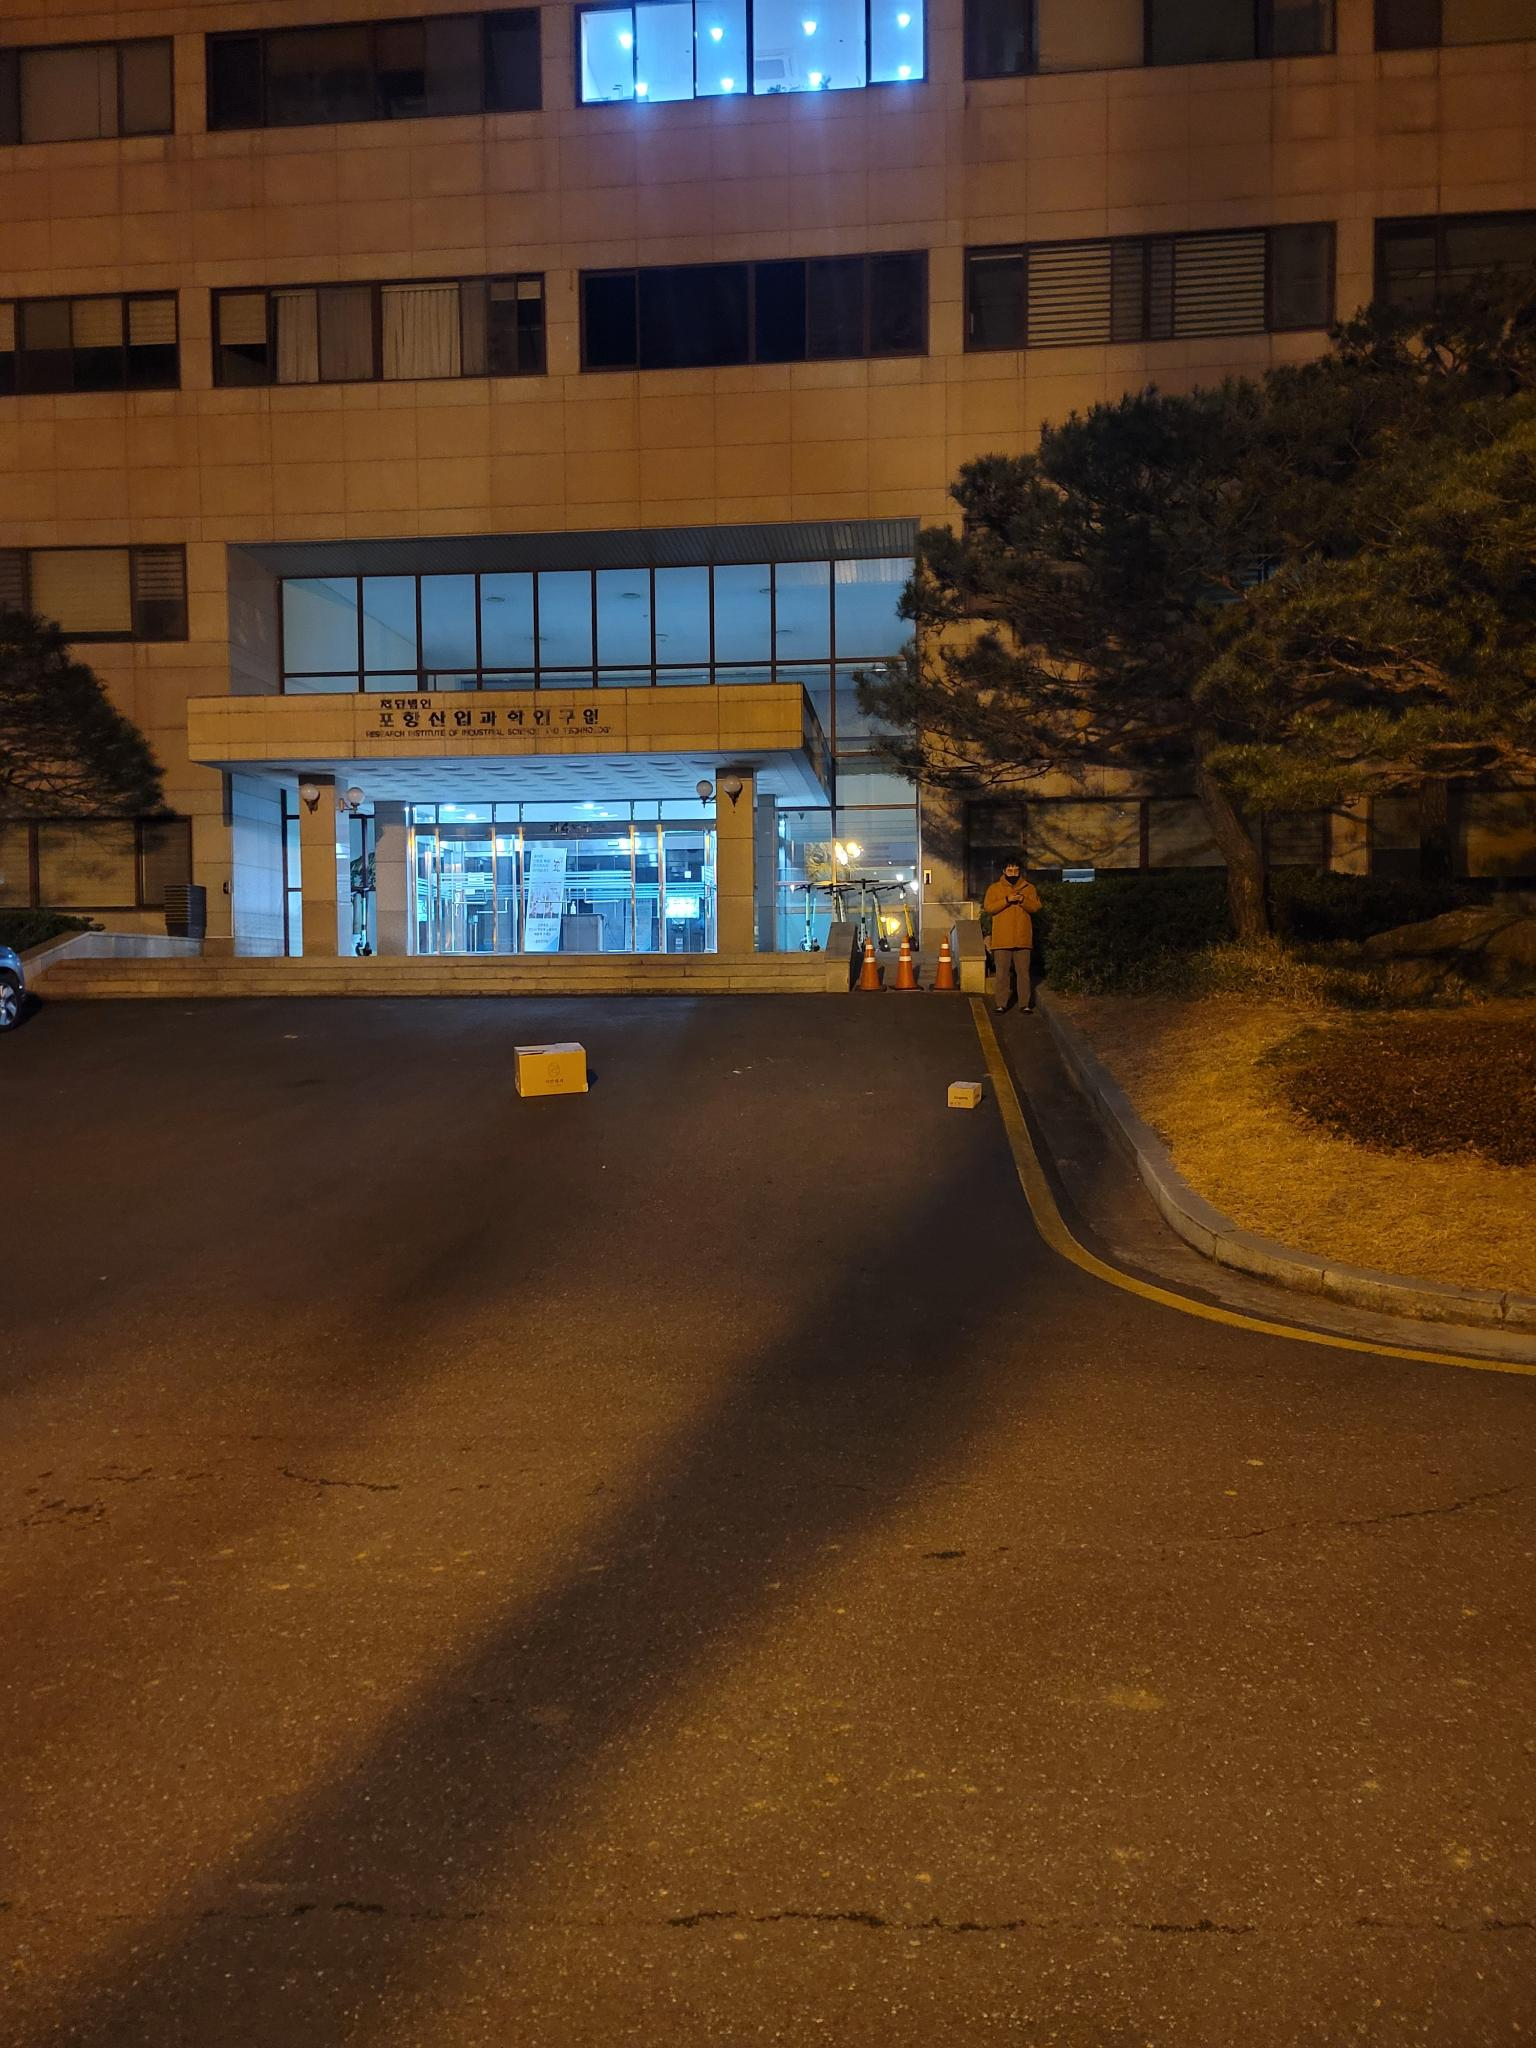Box: (500, 1032, 594, 1103), (941, 1071, 991, 1118)
